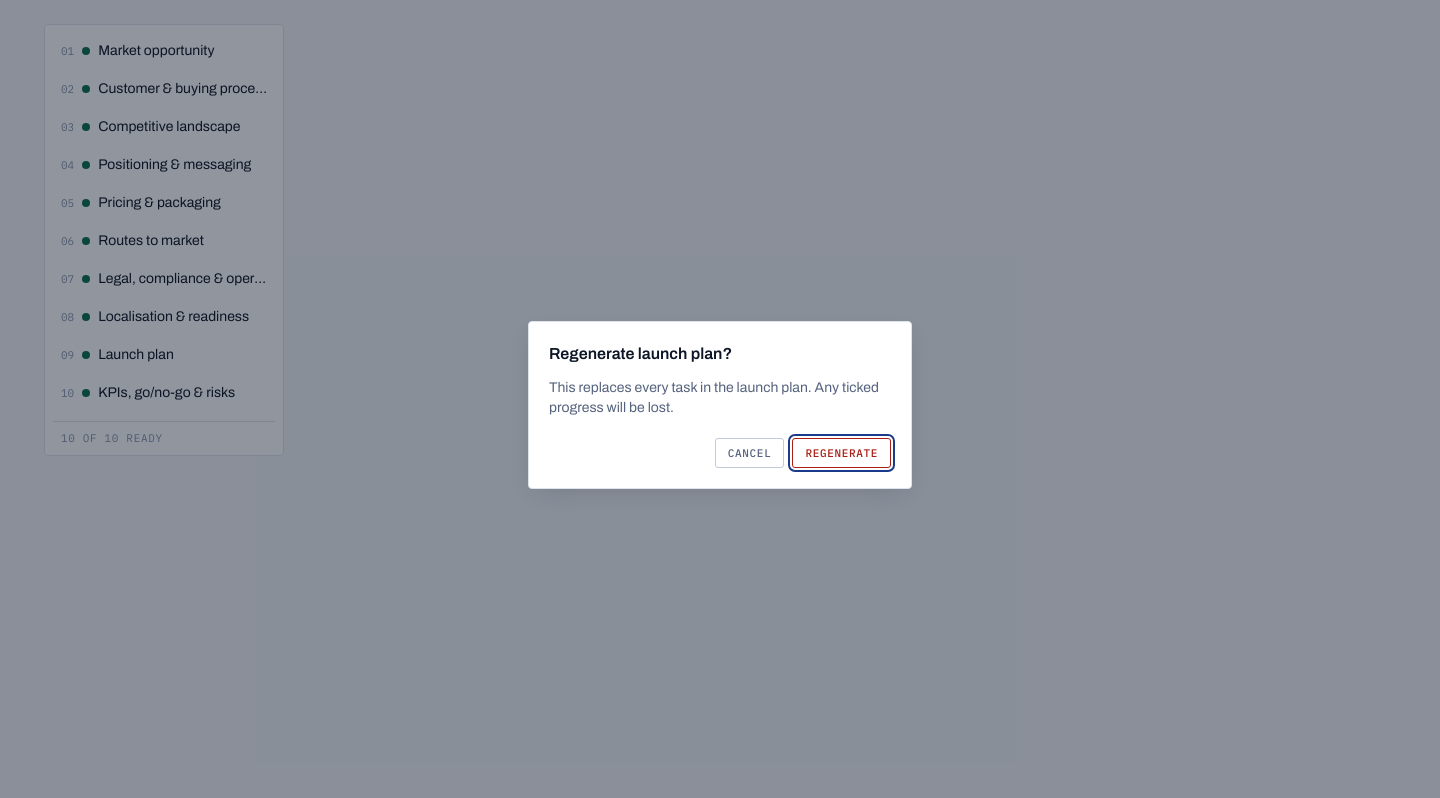
it: ResultsShell — regenerate confirmation (FR-43) › cancelling the confirmation dialog leaves the module untouched
Earlier steps of the test are not shown.
(page scrolled)
Click the button "Cancel" at x=750, y=453, box [715,438,784,468]
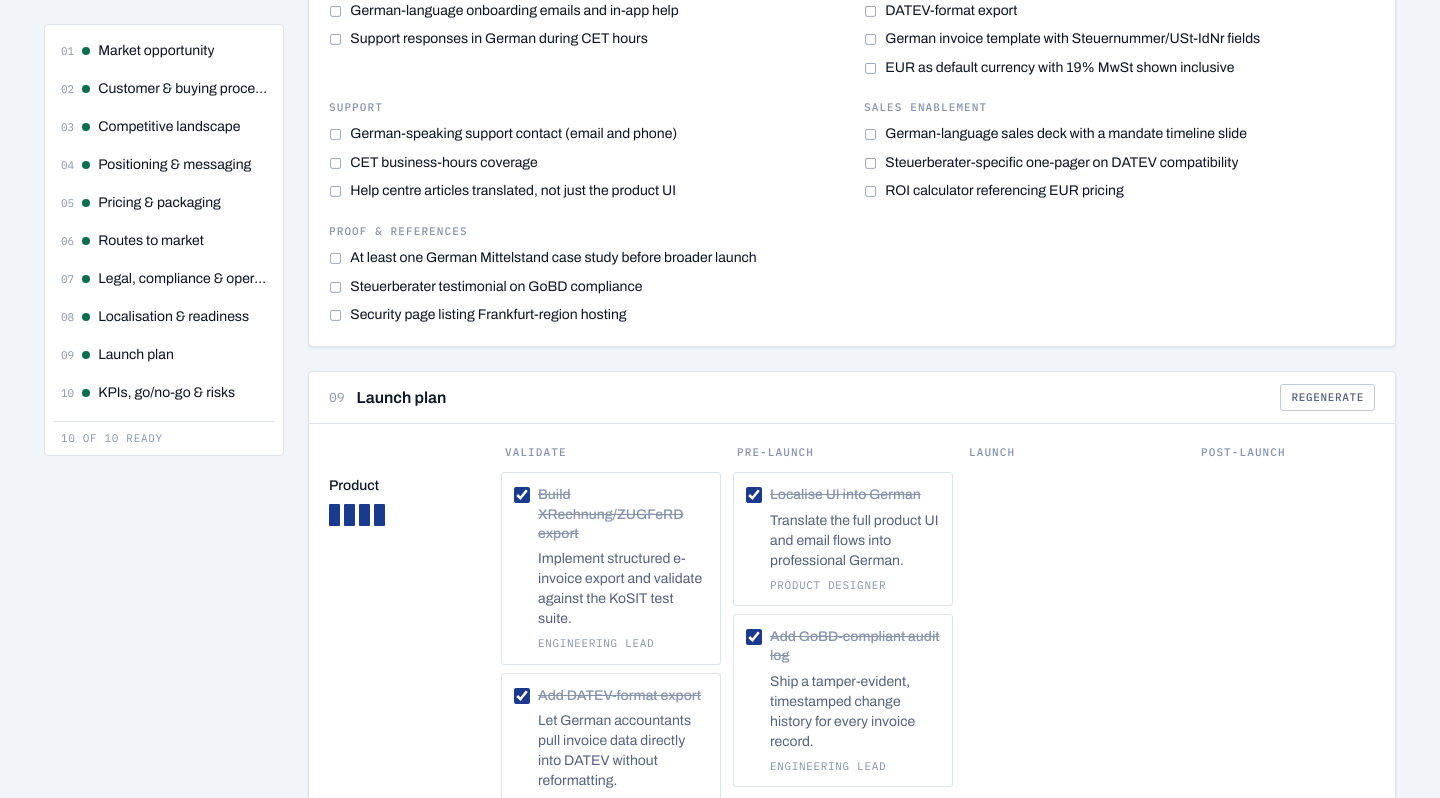
Expected: the dialog is gone
